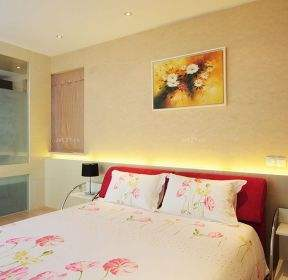床: (5, 201, 270, 279)
枕头: (103, 171, 242, 220)
灯: (80, 162, 99, 197), (122, 11, 133, 19), (53, 33, 63, 41)
